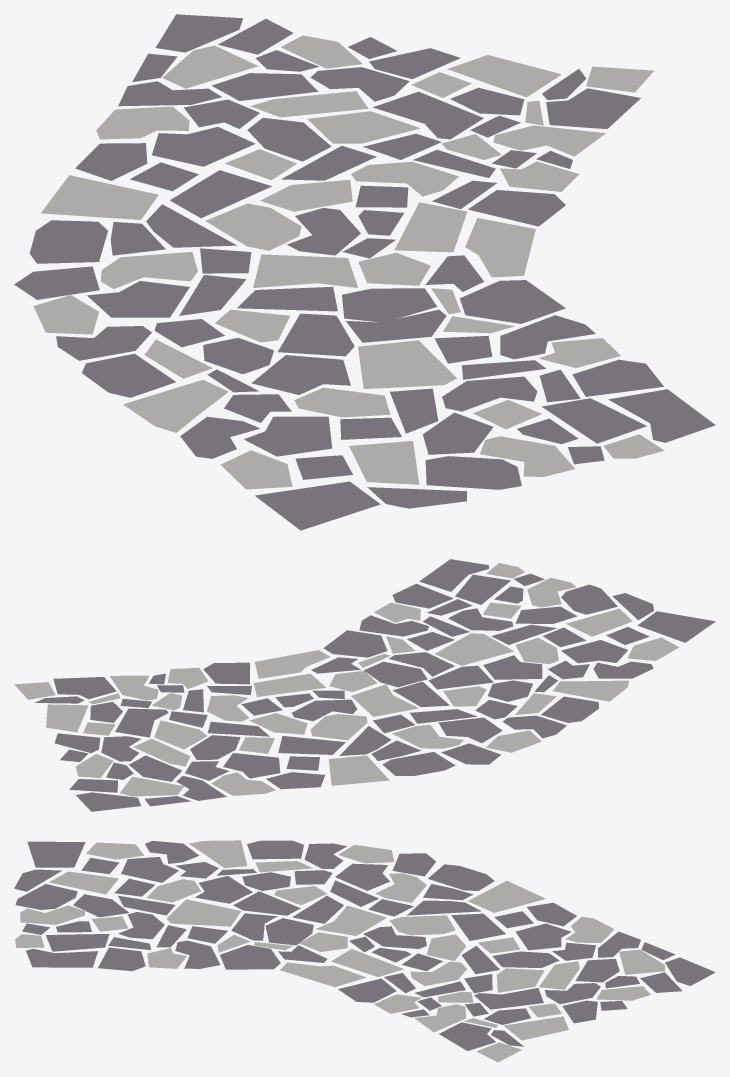
The model's file is road_smooth_right.fbx.
The picture shows the model from 3 angles, top to bottom: view 1: azimuth 30°, elevation 25°; view 2: azimuth 150°, elevation 25°; view 3: azimuth 270°, elevation 25°; orthographic projection. The views are drawn at different scales.
Parts seen in each view (by area): view 1: road_smooth_right; view 2: road_smooth_right; view 3: road_smooth_right.
Part boxes in pixels (bbox=[...]): road_smooth_right: bbox=[14, 14, 715, 530]; road_smooth_right: bbox=[14, 559, 715, 811]; road_smooth_right: bbox=[14, 840, 715, 1062].
Size of the model in its own units: 340 by 1.08 by 454.
